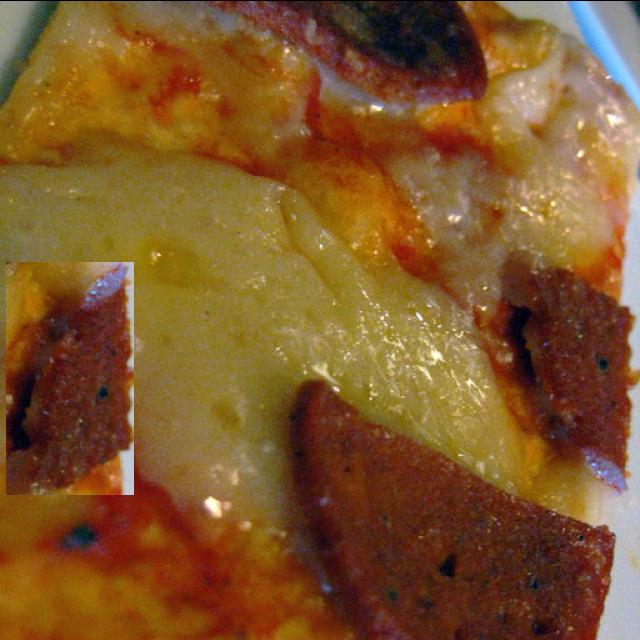pepperoni: (24, 378, 351, 638), (6, 261, 134, 494), (155, 0, 424, 98)
pizza: (0, 0, 640, 640)
